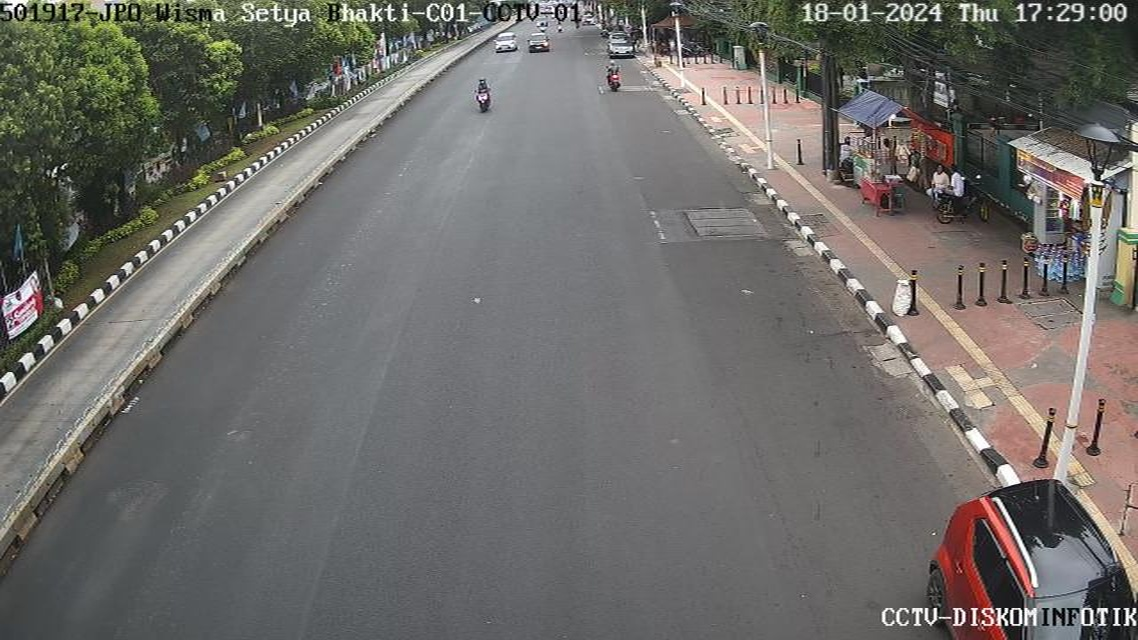Gerobak: (843, 124, 893, 200)
